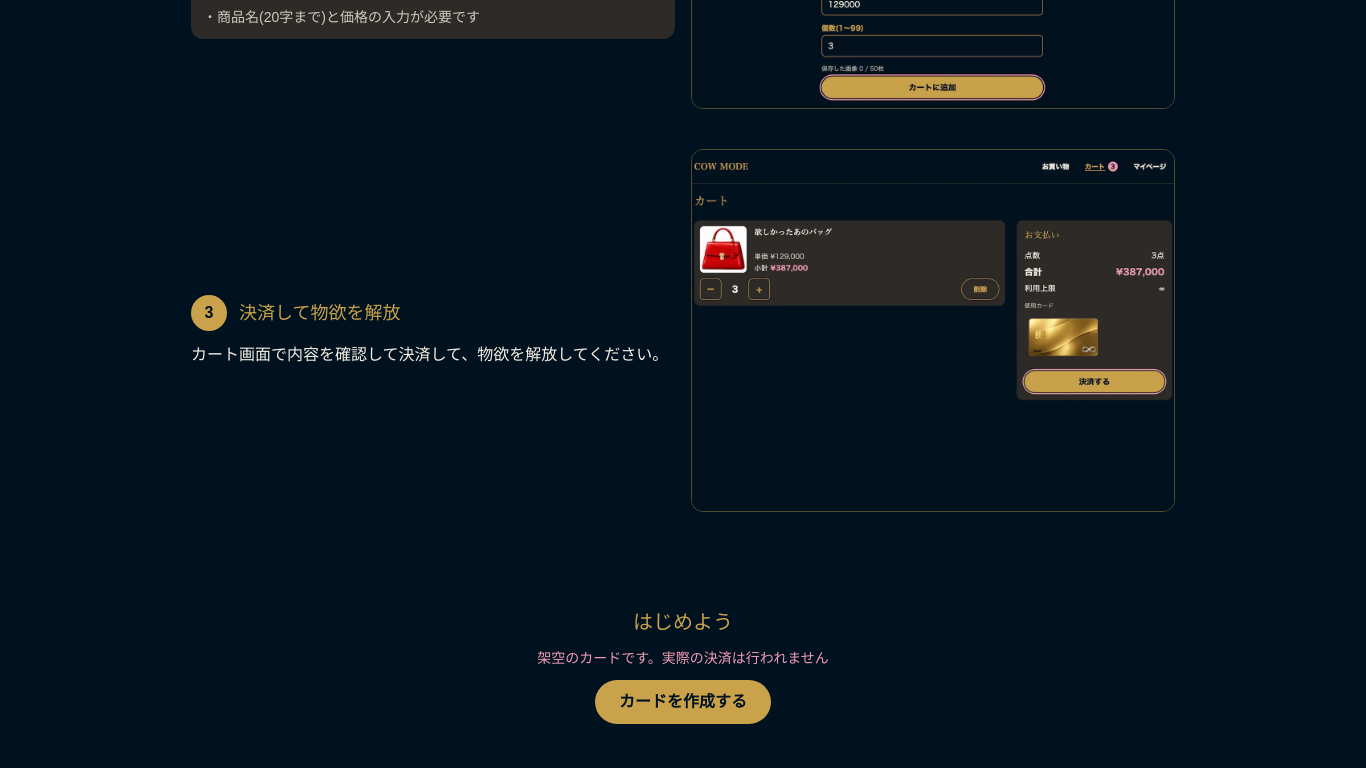
Test case: TopPage(カード作成の流れ) › 「カードを作成する」を押すと、モーダルが開く
This screenshot has width=1366, height=768.
(page scrolled)
What coordinates should you click on to do the following:
click the button "カードを作成する"
I would click on:
 (683, 702)
Its box is [595,680,771,724].
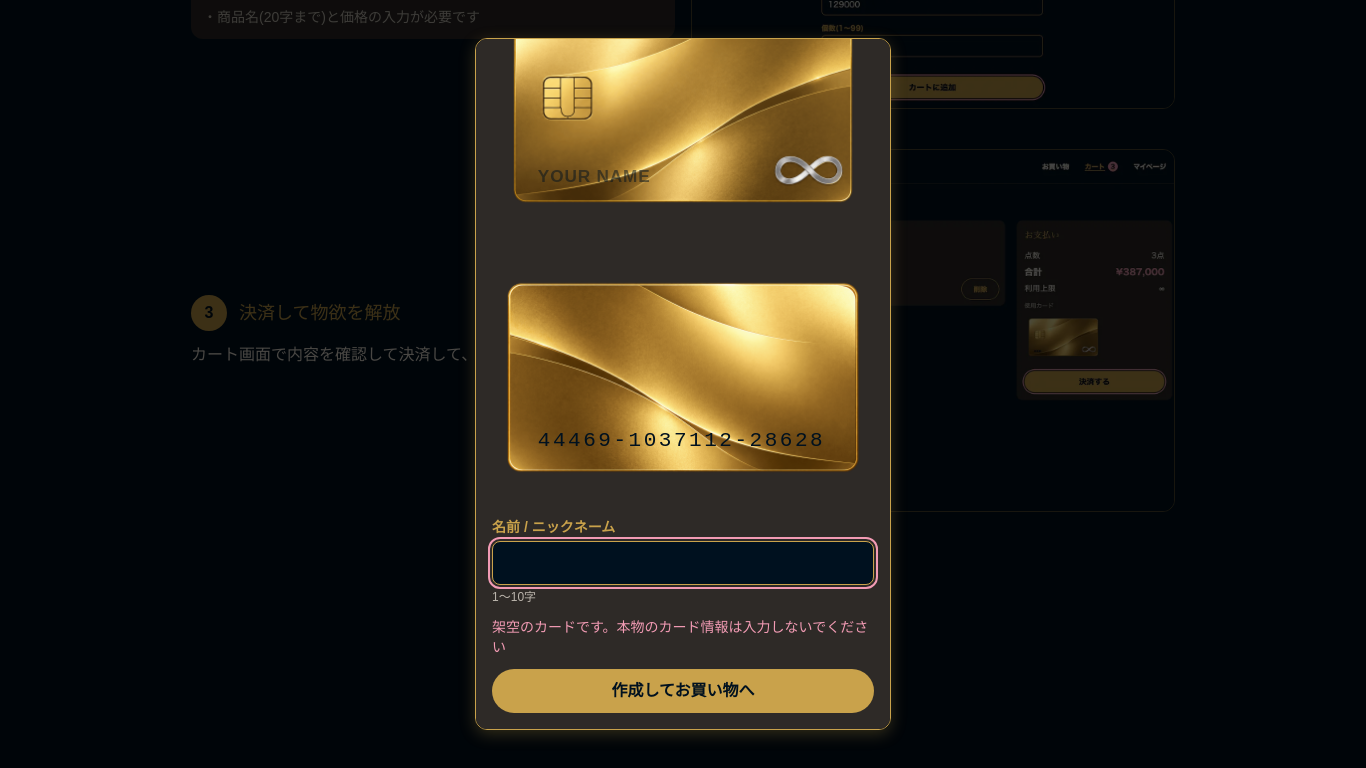
Expected: the dialog "カードを作成" is shown, [475,38,891,730]
